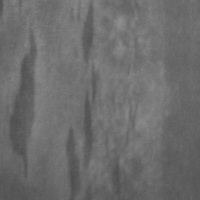inclusion: (63, 1, 102, 199), (5, 24, 40, 184), (106, 153, 126, 199)
